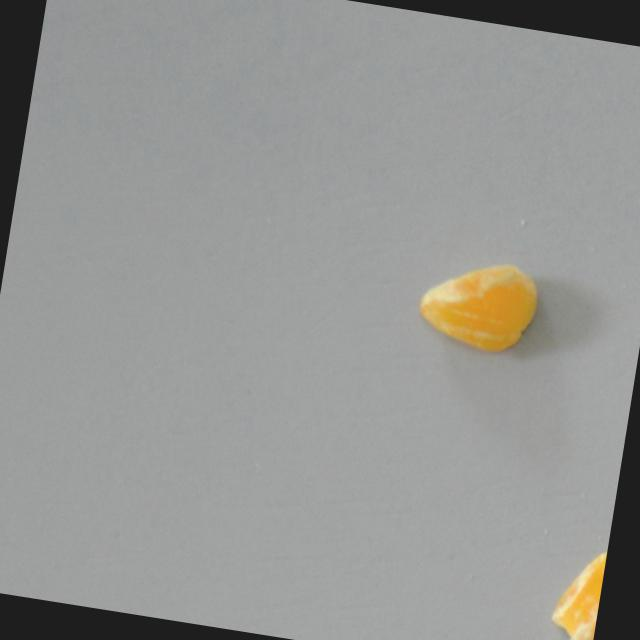pelicula: (415, 251, 545, 359), (545, 542, 608, 640)
